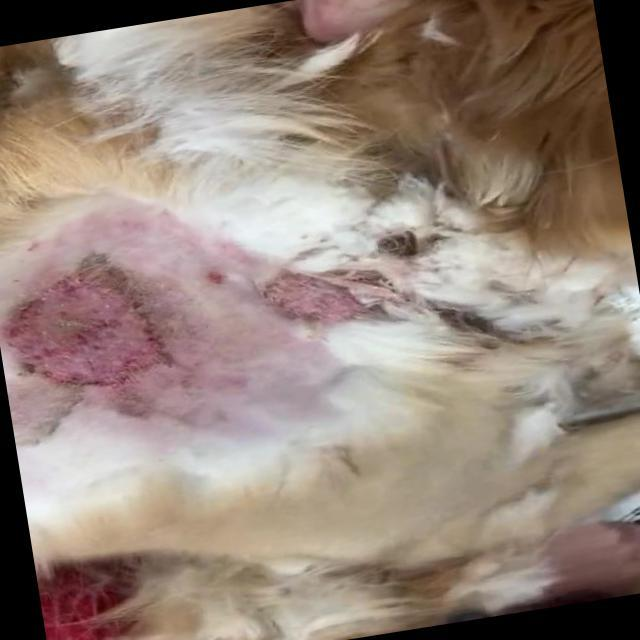allergic dermatitis: (1, 259, 202, 417), (248, 257, 388, 333)
